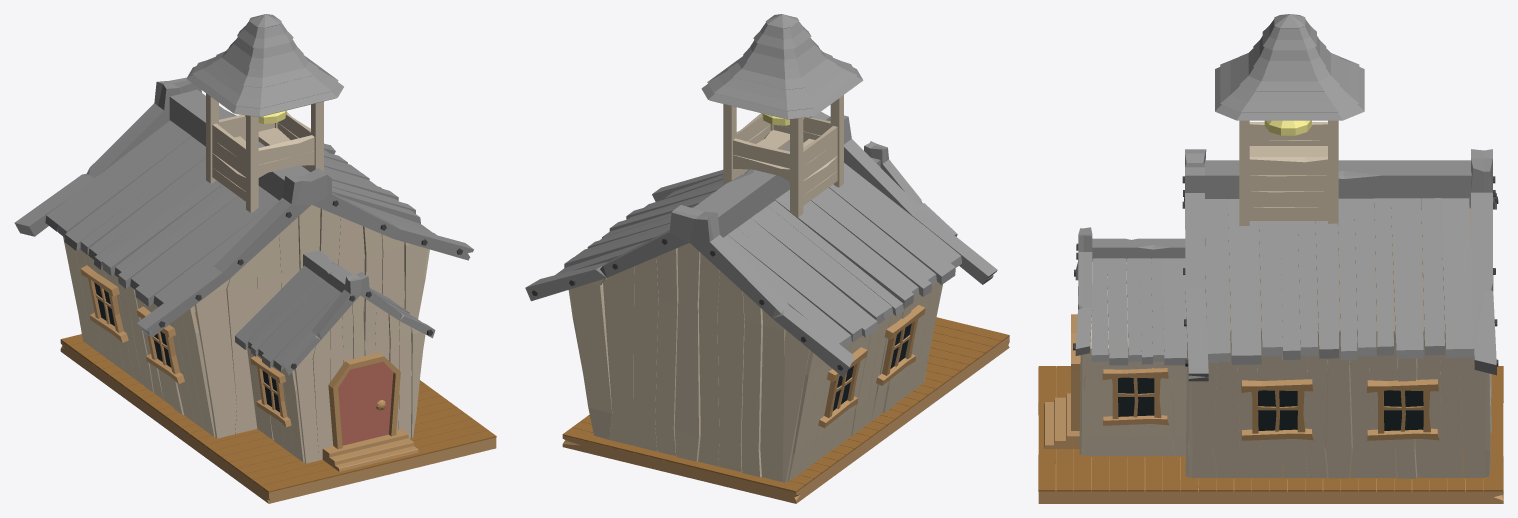
Rendered from Building_School.fbx.
3 views of the same model, side by side, from view 1: azimuth 30°, elevation 25°; view 2: azimuth 150°, elevation 25°; view 3: azimuth 270°, elevation 25° (orthographic). The views are drawn at different scales.
Visible parts, largest first — view 1: Building_School; view 2: Building_School; view 3: Building_School.
Boxes of the visible parts, box(x1,y1,x2,y2) form: Building_School: box(14, 14, 496, 503); Building_School: box(525, 14, 1009, 503); Building_School: box(1038, 14, 1503, 503).
Size of the model in its own units: 818 by 898 by 906.
